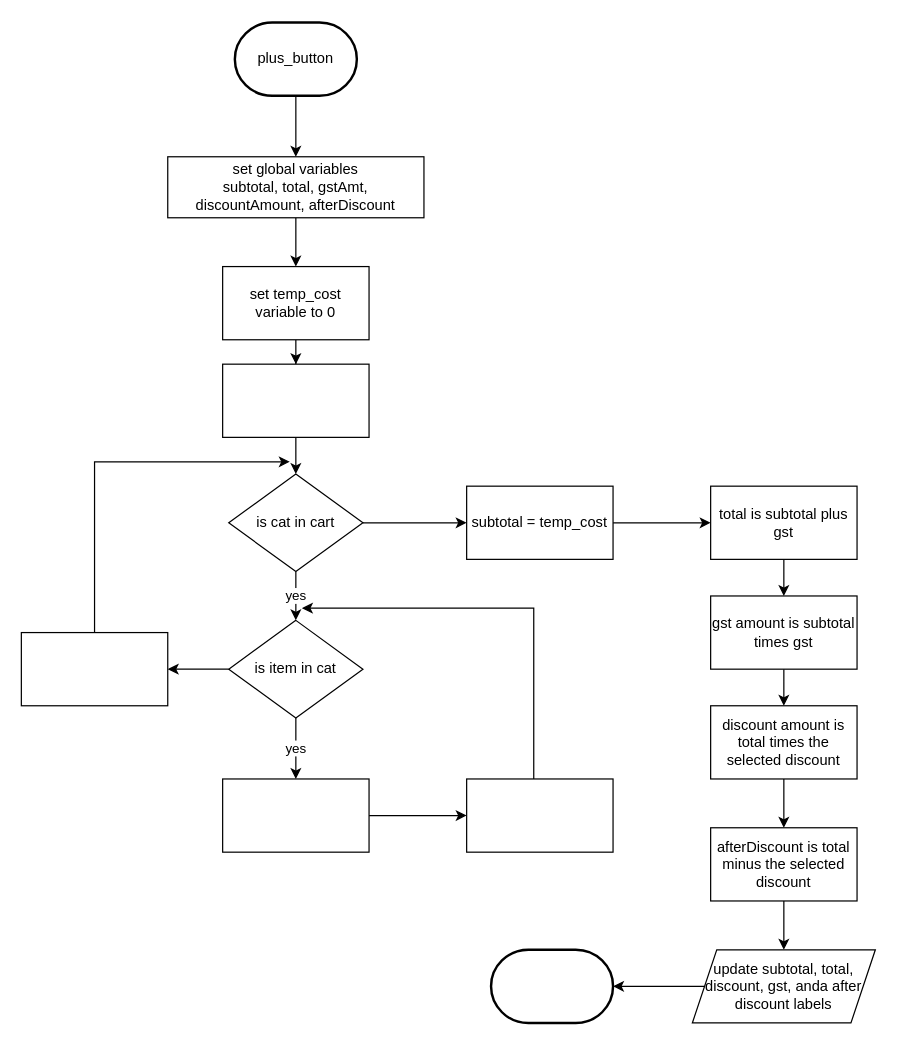
This 897x1044 diagram has some shape labels left out. The shapes that lost their labels are listed below. From the top down, each one's centre as x and y in pixels, then its label:
At point 295,400: "cat = 0 sn = 0".
At point 94,668: "increment cart by 1".
At point 295,815: "add the amount of items in cart multiplied by price of item to temp_cost".
At point 539,815: "increment item by 1".
At point 551,986: "end".
